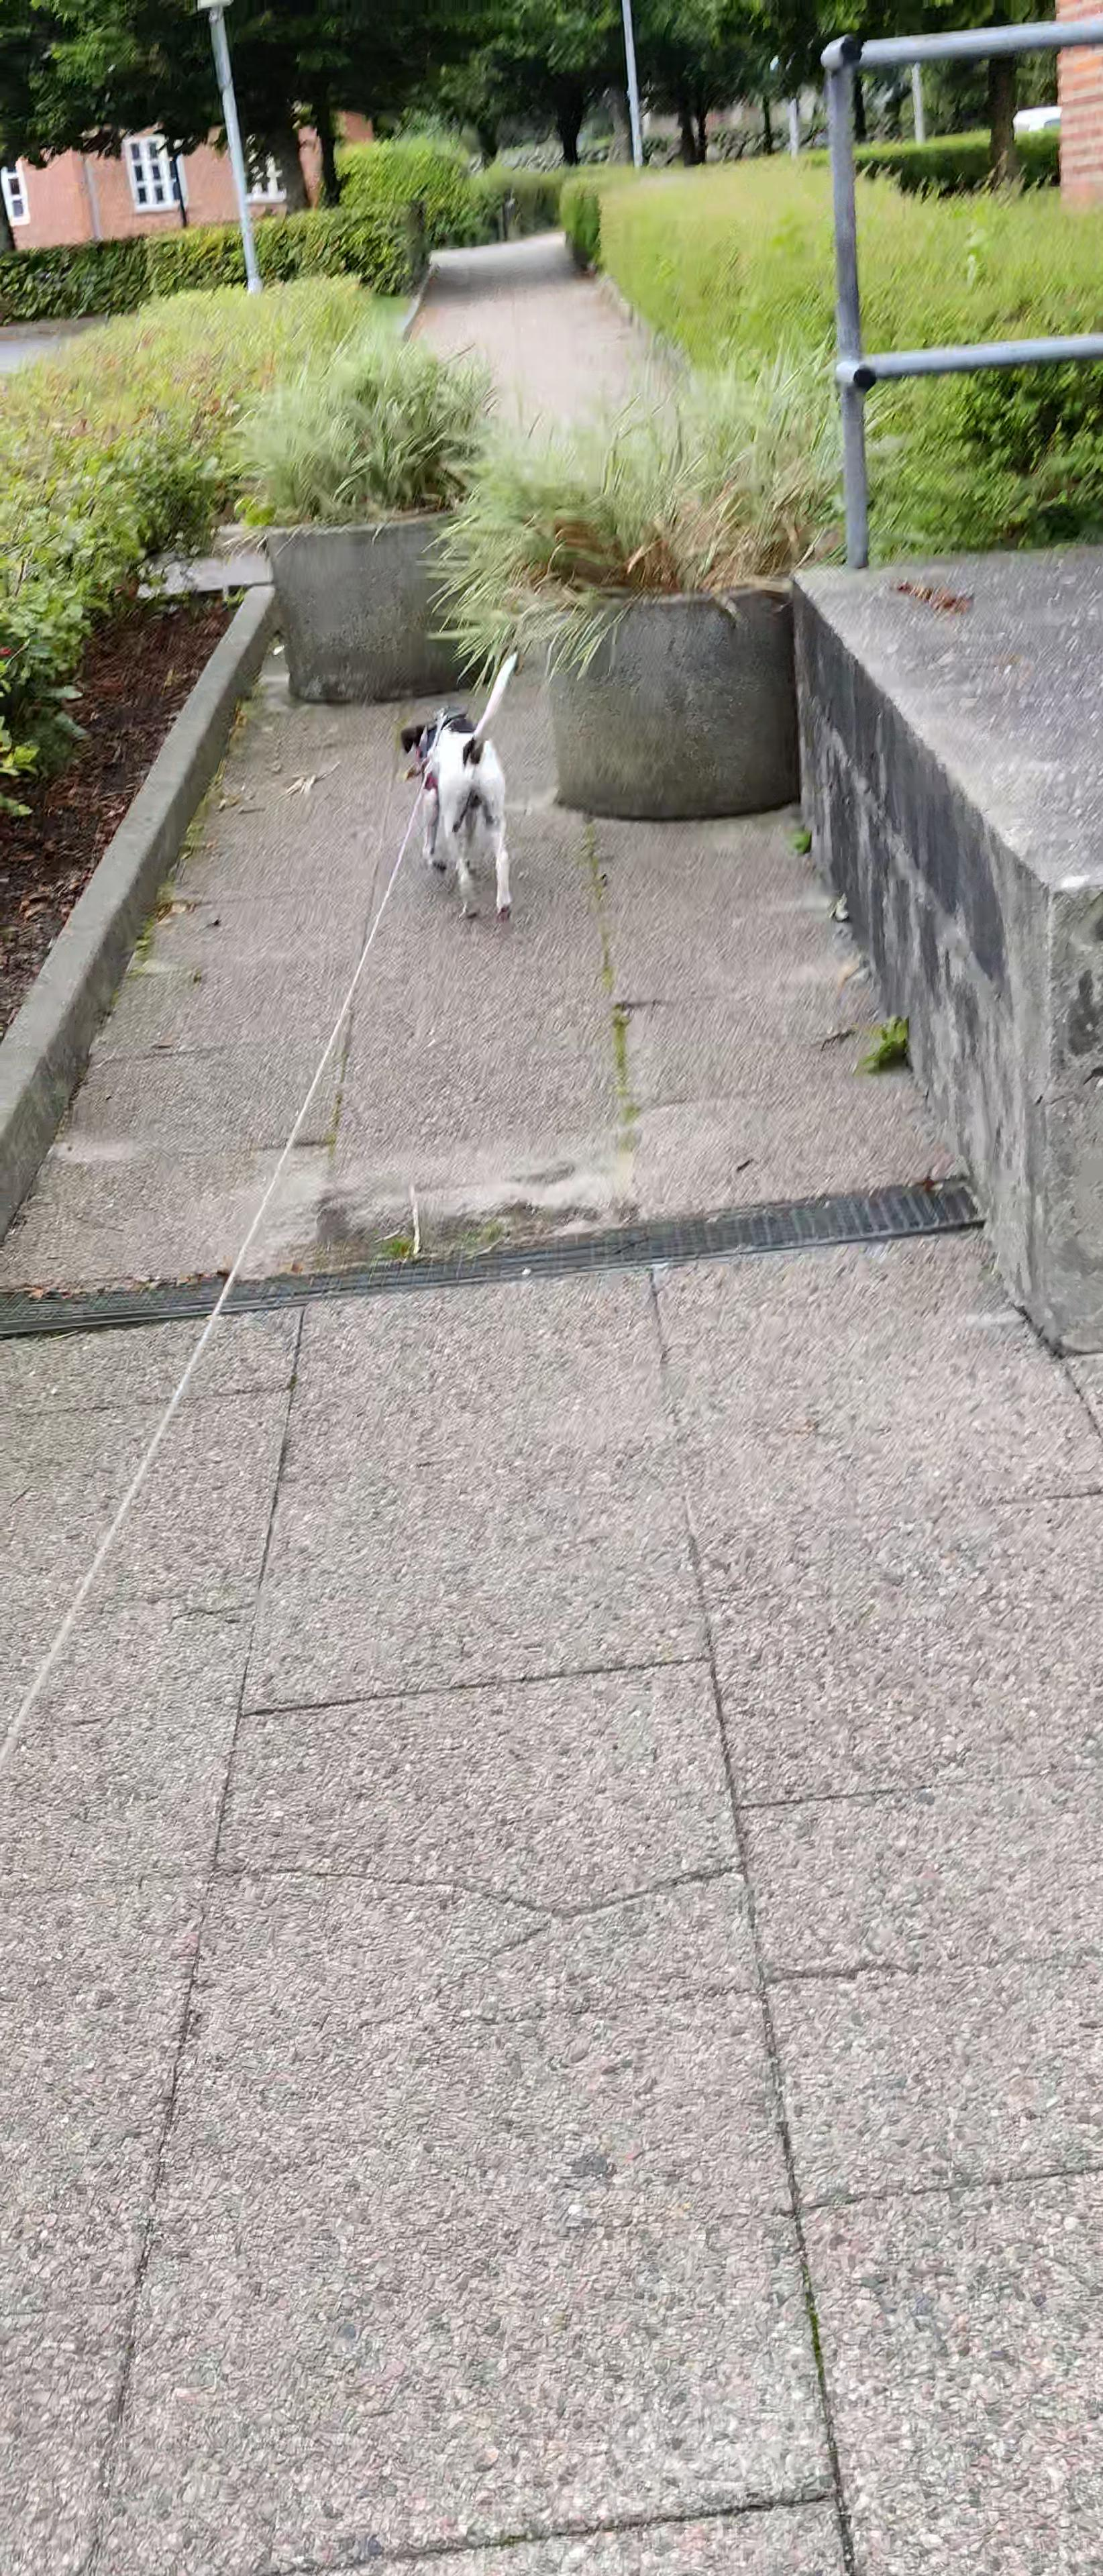Dog: (399, 644, 519, 922)
